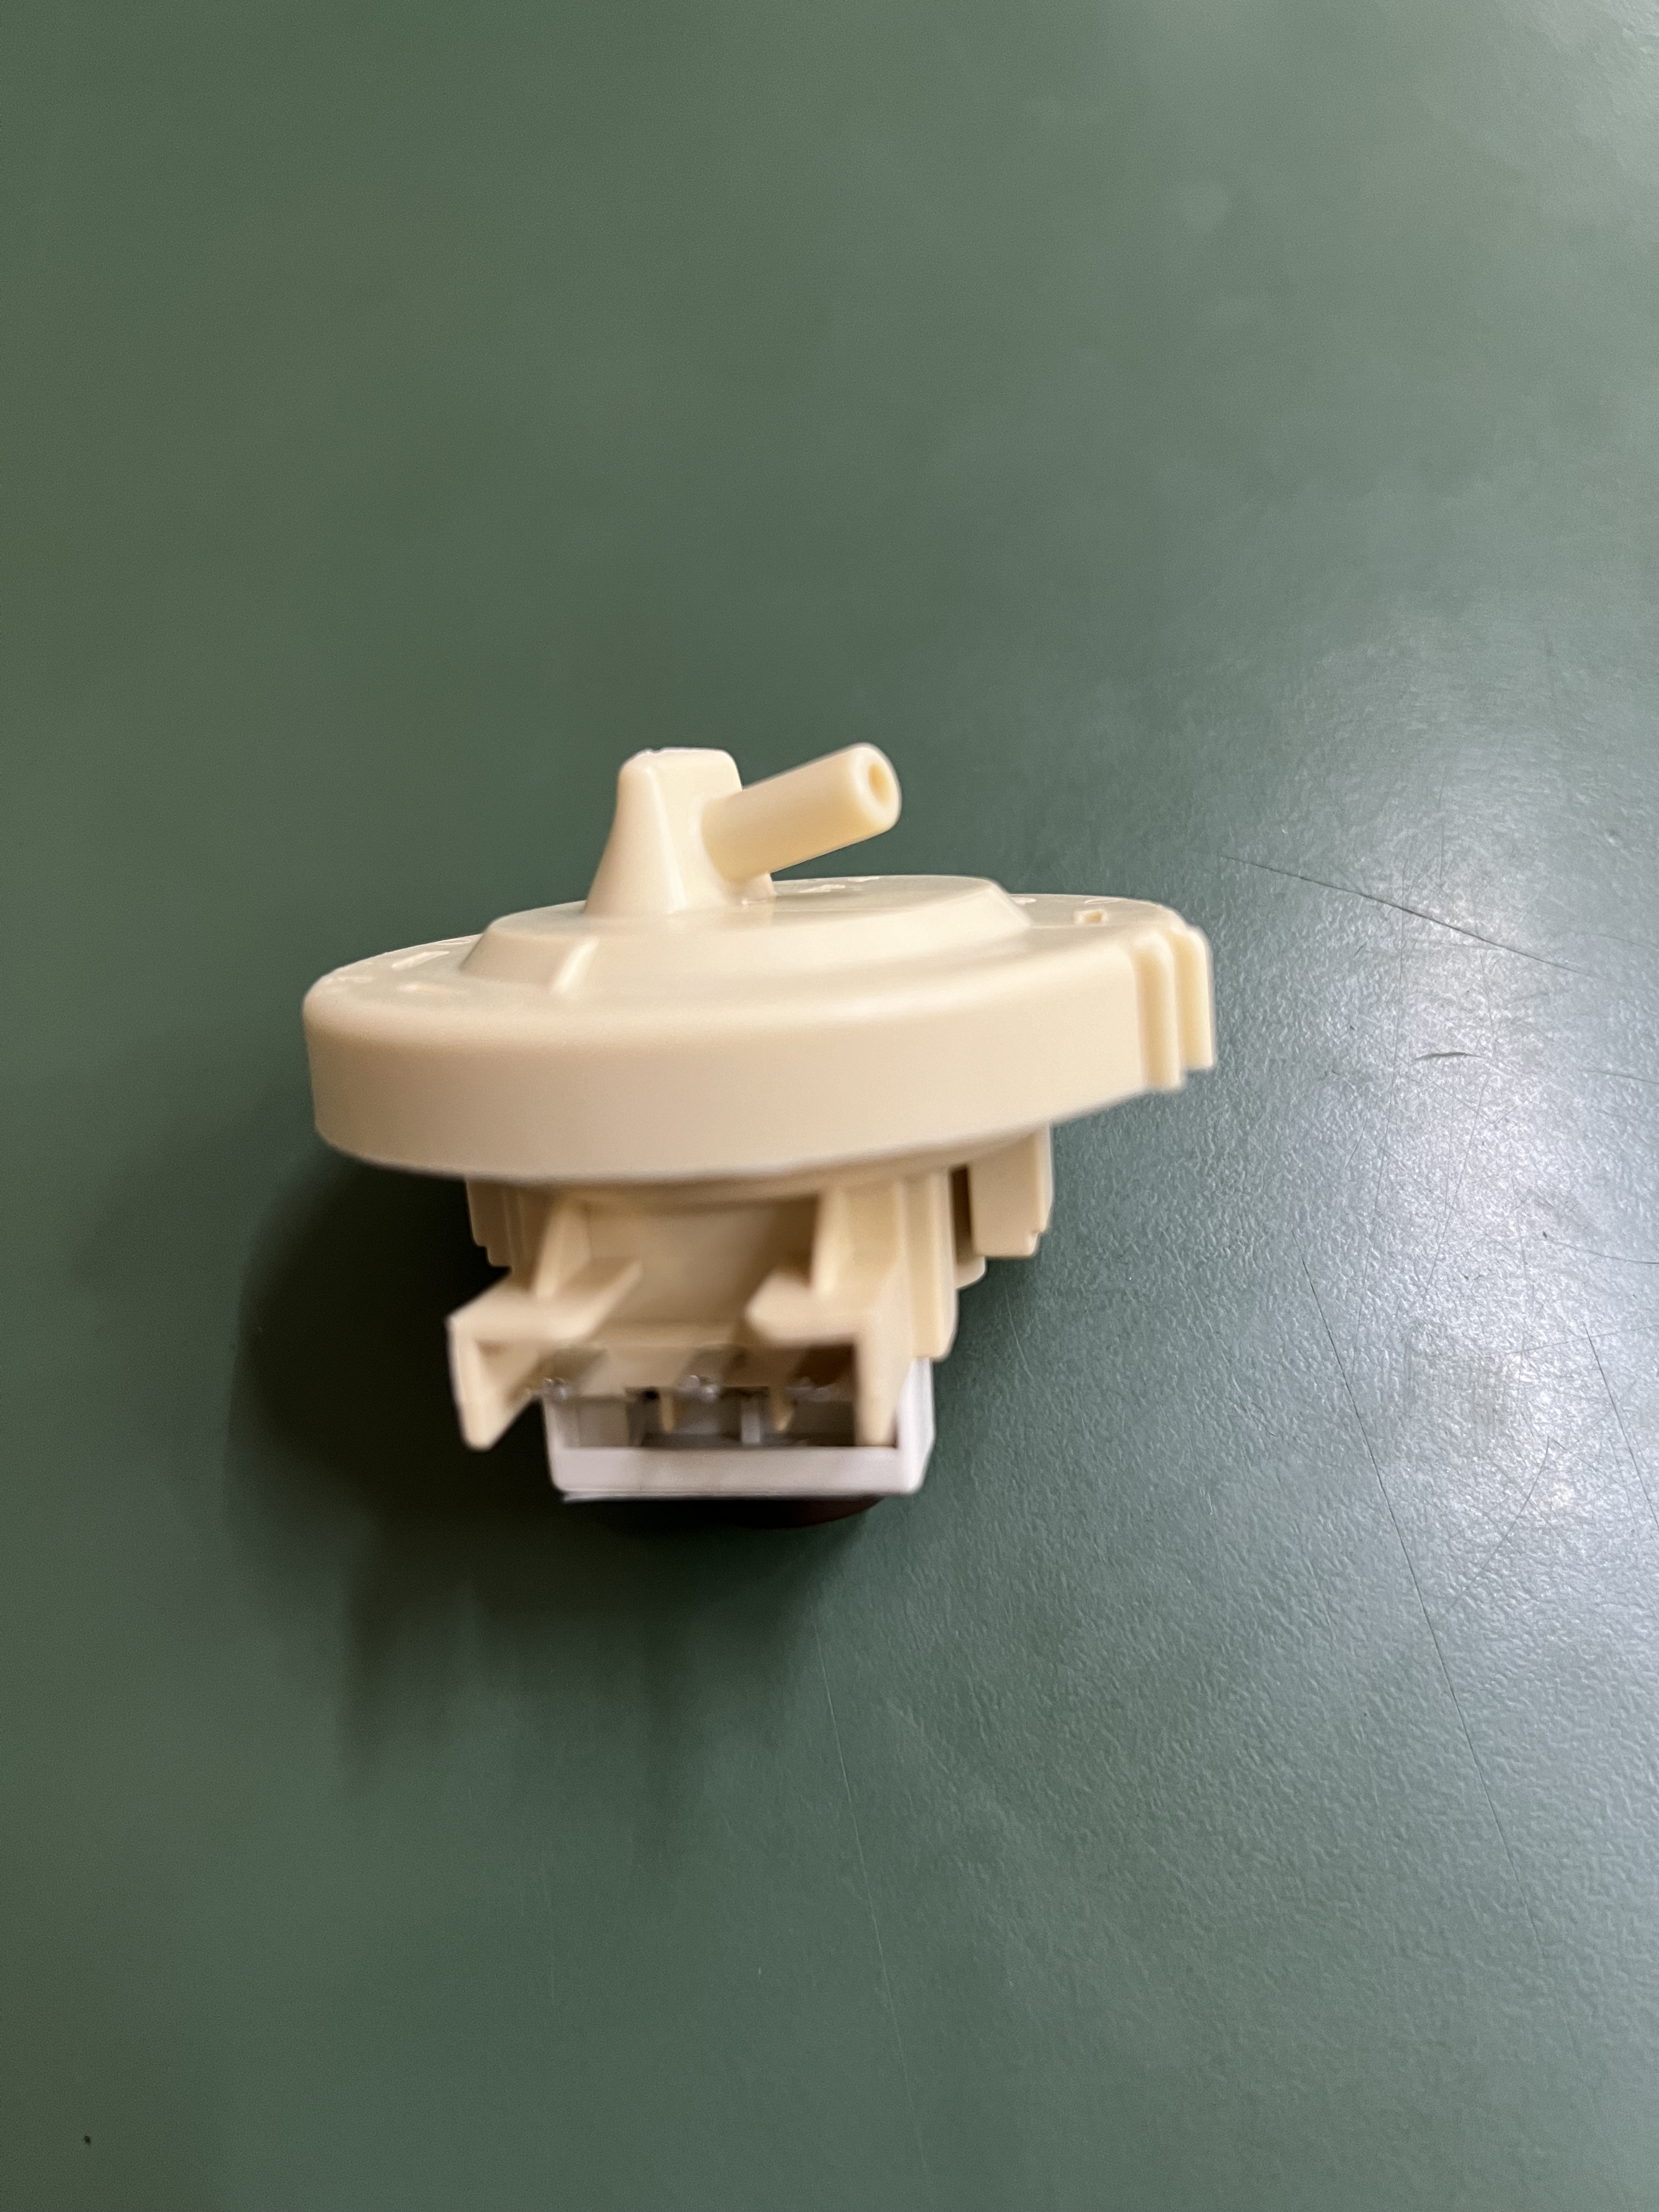pressure_sensor: (279, 716, 1241, 1588)
